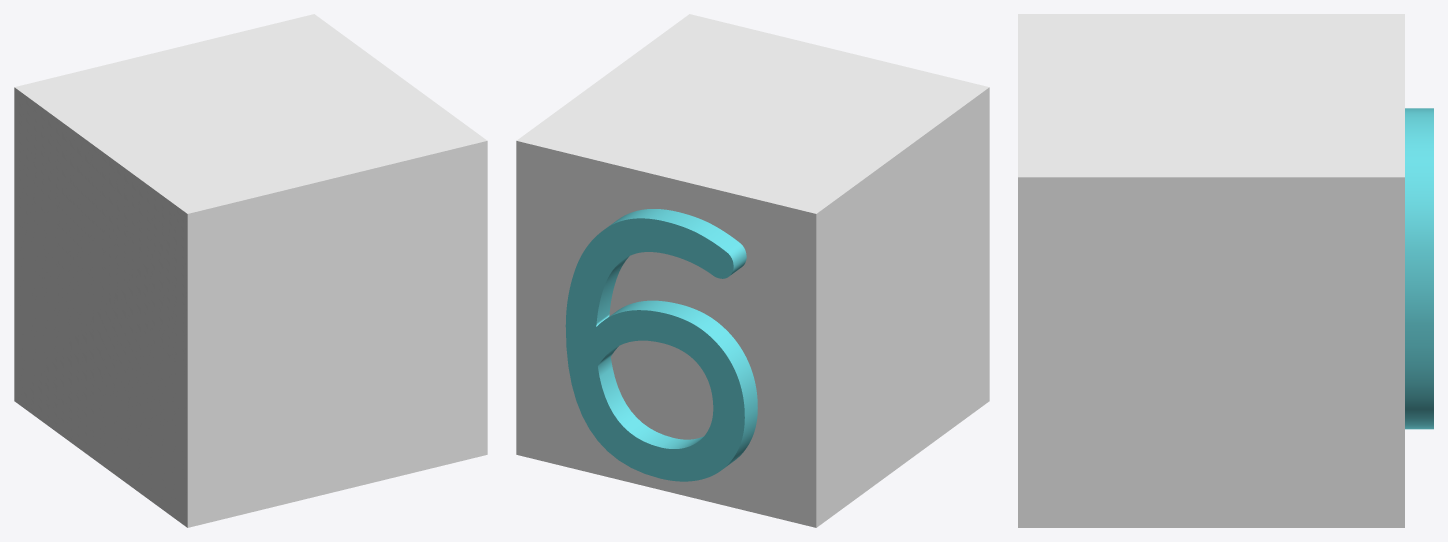
The model's file is stage6.obj.
3 renders of one model, left to right at view 1: azimuth 30°, elevation 25°; view 2: azimuth 150°, elevation 25°; view 3: azimuth 270°, elevation 25°, orthographic. The views are drawn at different scales.
Parts seen in each view (by area): view 1: Cube; view 2: Cube, テキスト; view 3: Cube, テキスト.
Boxes of the visible parts, x1,y1,x2,y2 form: Cube: (14, 14, 487, 527); Cube: (516, 14, 989, 527); テキスト: (565, 209, 757, 481); Cube: (1018, 14, 1404, 527); テキスト: (1405, 108, 1433, 429).
Size of the model in its own units: 2 by 2 by 2.15.
1 material, 1 textured.
